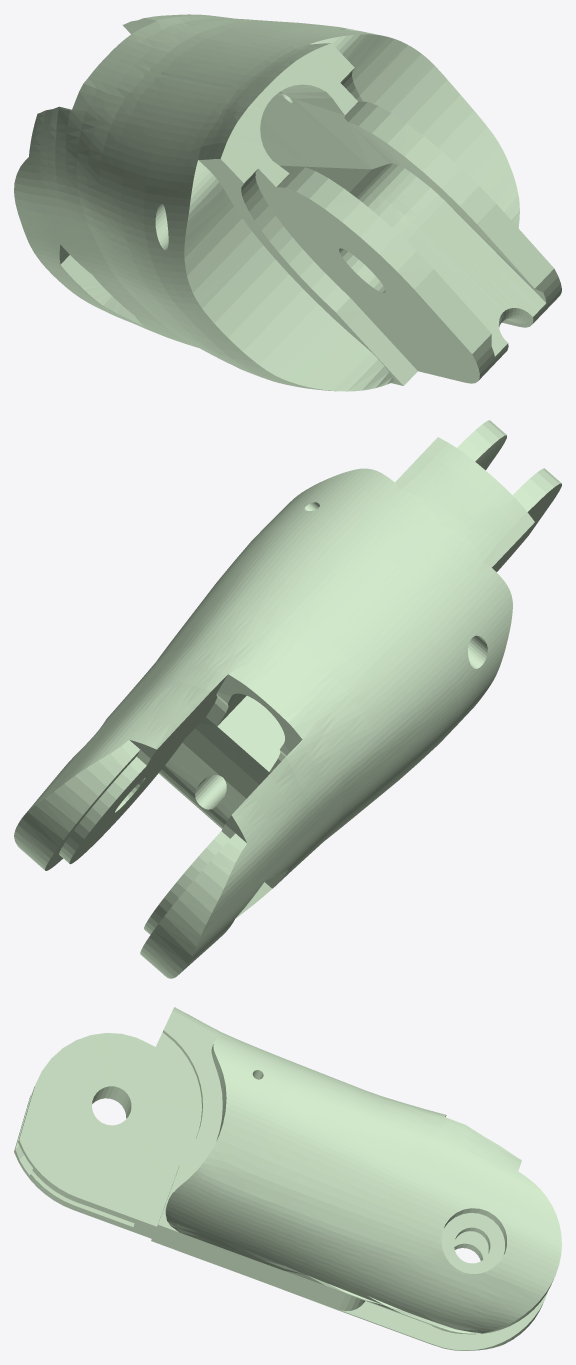
The model's file is i02_rightHand_pinkyPhal_visual.obj.full.glb.
3 renders of one model, top to bottom at view 1: azimuth 30°, elevation 25°; view 2: azimuth 150°, elevation 25°; view 3: azimuth 270°, elevation 25°, orthographic. The views are drawn at different scales.
Bounding box in the file's own units: 0.2348 × 0.3094 × 0.4963.
